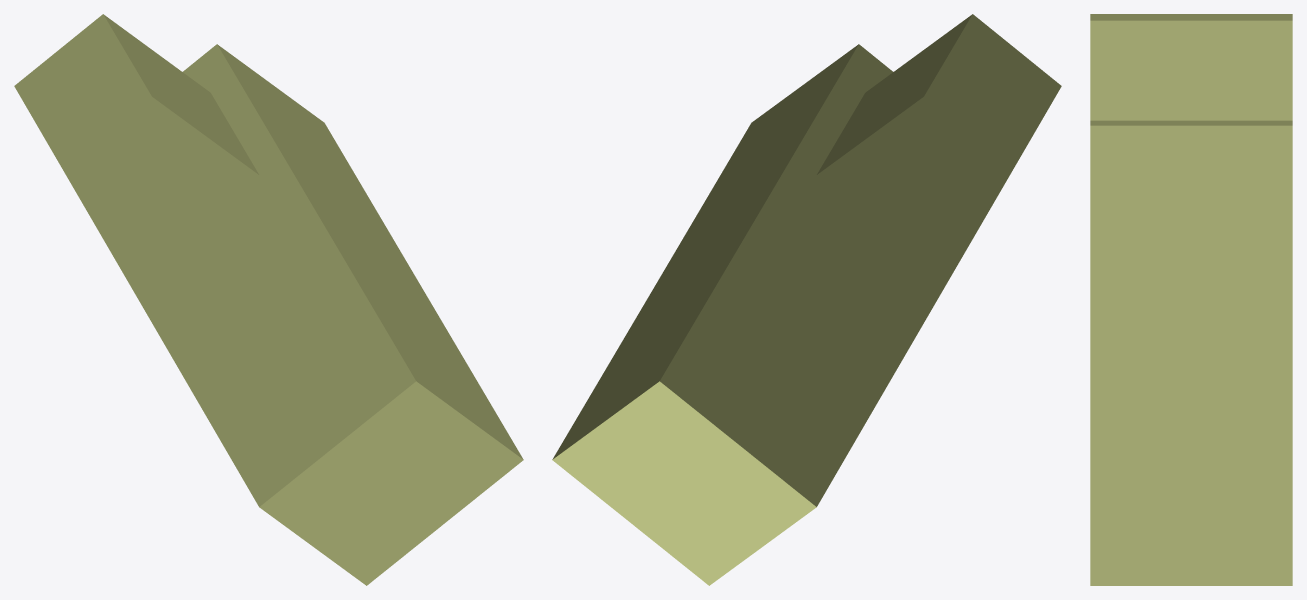
3 renders of one model, left to right at view 1: azimuth 30°, elevation 25°; view 2: azimuth 150°, elevation 25°; view 3: azimuth 270°, elevation 25°, orthographic. The views are drawn at different scales.
Parts seen in each view (by area): view 1: 0_1_0_0_1_0_2_1_0_1; view 2: 0_1_0_0_1_0_2_1_0_1; view 3: 0_1_0_0_1_0_2_1_0_1.
Part boxes in pixels (x1,y1,x2,y2): 0_1_0_0_1_0_2_1_0_1: [14, 14, 523, 585]; 0_1_0_0_1_0_2_1_0_1: [552, 14, 1061, 585]; 0_1_0_0_1_0_2_1_0_1: [1090, 14, 1292, 585].
Bounding box in the file's own units: 12.95 × 16.36 × 6.
